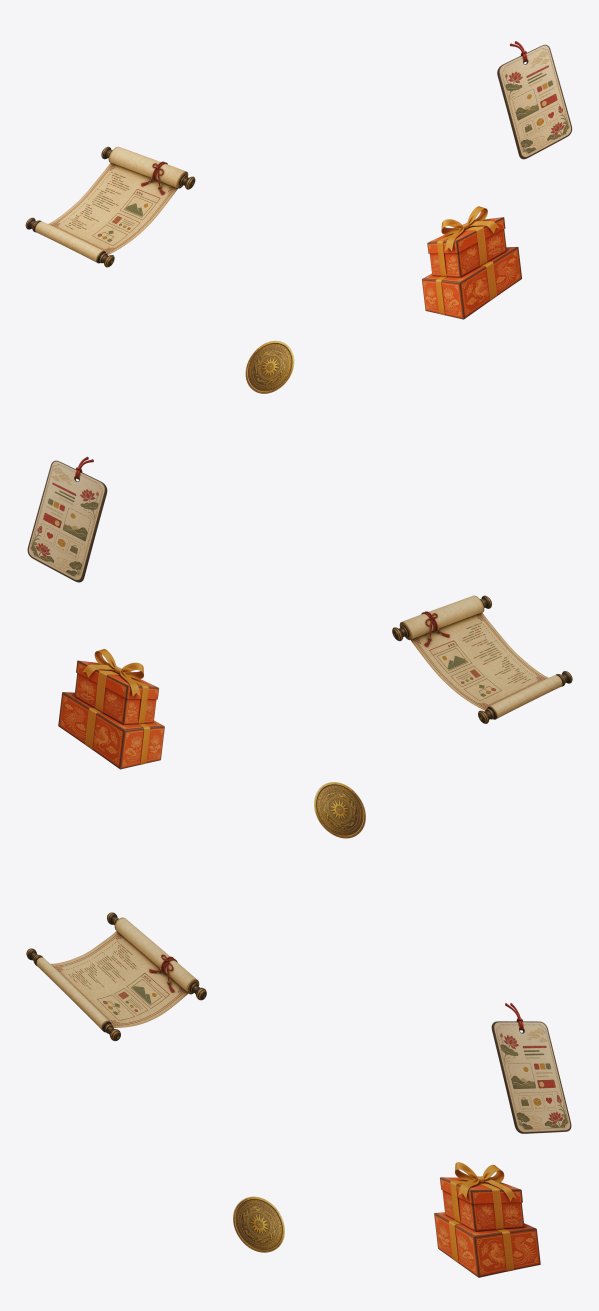
Rendered from EW26_Shipping_251204_compressed-optimized-5fa1d8651e.glb.
3 renders of one model, top to bottom at view 1: azimuth 30°, elevation 25°; view 2: azimuth 150°, elevation 25°; view 3: azimuth 330°, elevation 25°, orthographic. The views are drawn at different scales.
Visible parts, largest first — view 1: Vietfolk_shipping_scroll, Vietfolk_shipping_giftbox, Vietfolk_shipping_tag, Vietfolk_shipping_coin; view 2: Vietfolk_shipping_scroll, Vietfolk_shipping_giftbox, Vietfolk_shipping_tag, Vietfolk_shipping_coin; view 3: Vietfolk_shipping_scroll, Vietfolk_shipping_giftbox, Vietfolk_shipping_tag, Vietfolk_shipping_coin.
Boxes of the visible parts, left/top/right/bottom form: Vietfolk_shipping_scroll: left=25, top=146, right=195, bottom=267; Vietfolk_shipping_giftbox: left=422, top=206, right=521, bottom=319; Vietfolk_shipping_tag: left=497, top=41, right=572, bottom=159; Vietfolk_shipping_coin: left=245, top=341, right=294, bottom=393; Vietfolk_shipping_scroll: left=392, top=595, right=572, bottom=723; Vietfolk_shipping_giftbox: left=58, top=649, right=164, bottom=769; Vietfolk_shipping_tag: left=27, top=456, right=107, bottom=582; Vietfolk_shipping_coin: left=314, top=782, right=365, bottom=838; Vietfolk_shipping_scroll: left=26, top=912, right=206, bottom=1040; Vietfolk_shipping_giftbox: left=434, top=1162, right=540, bottom=1277; Vietfolk_shipping_tag: left=491, top=1003, right=571, bottom=1133; Vietfolk_shipping_coin: left=233, top=1196, right=284, bottom=1252.
Bounding box in the file's own units: 3.01 × 1.68 × 0.16.
4 materials, 4 textured.
